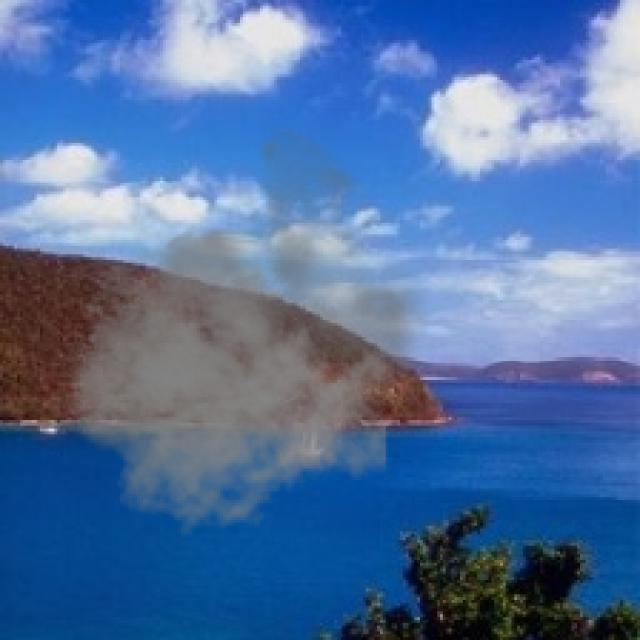smoke: (43, 120, 434, 537)
